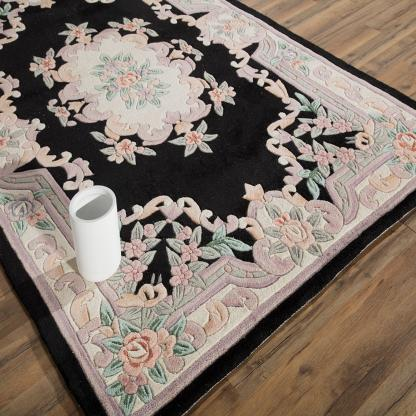Carpet: (1, 0, 414, 415)
